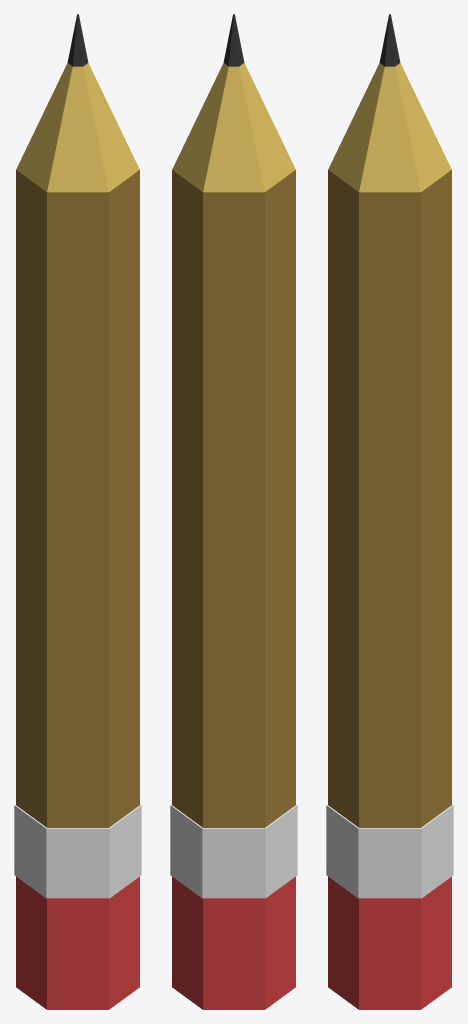
File: Pencil.fbx
3 views of the same model, side by side, from view 1: azimuth 90°, elevation 25°; view 2: azimuth 150°, elevation 25°; view 3: azimuth 270°, elevation 25° (orthographic).
Parts seen in each view (by area): view 1: Cylinder.003; view 2: Cylinder.003; view 3: Cylinder.003.
Part boxes in pixels (box(x1,y1,x2,y2)): Cylinder.003: box(14, 14, 141, 1009); Cylinder.003: box(170, 14, 297, 1009); Cylinder.003: box(326, 14, 453, 1009).
Size of the model in its own units: 18.87 by 184 by 21.79.
